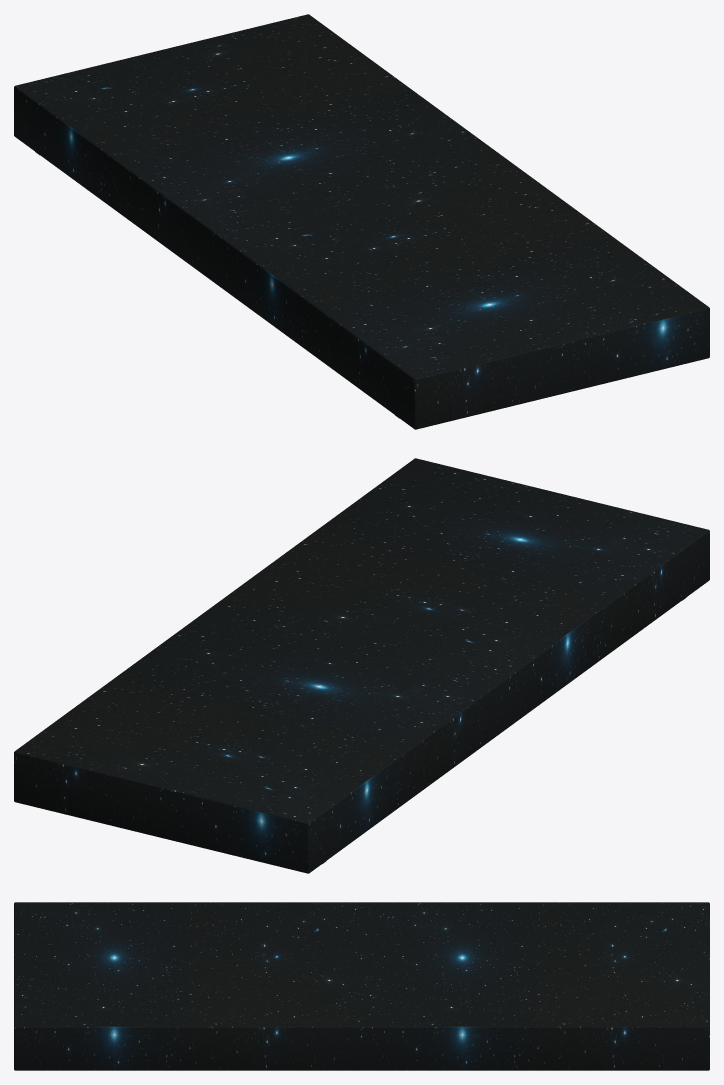
Rendered from podium_space.obj.
The picture shows the model from 3 angles, top to bottom: view 1: azimuth 30°, elevation 25°; view 2: azimuth 150°, elevation 25°; view 3: azimuth 270°, elevation 25°; orthographic projection. The views are drawn at different scales.
Visible parts, largest first — view 1: pp52_stell; view 2: pp52_stell; view 3: pp52_stell.
Part boxes in pixels (<box>): pp52_stell: <box>14,14,709,429</box>; pp52_stell: <box>14,458,709,873</box>; pp52_stell: <box>14,902,709,1070</box>.
Size of the model in its own units: 85 by 15 by 200.
2 materials, 1 textured.
